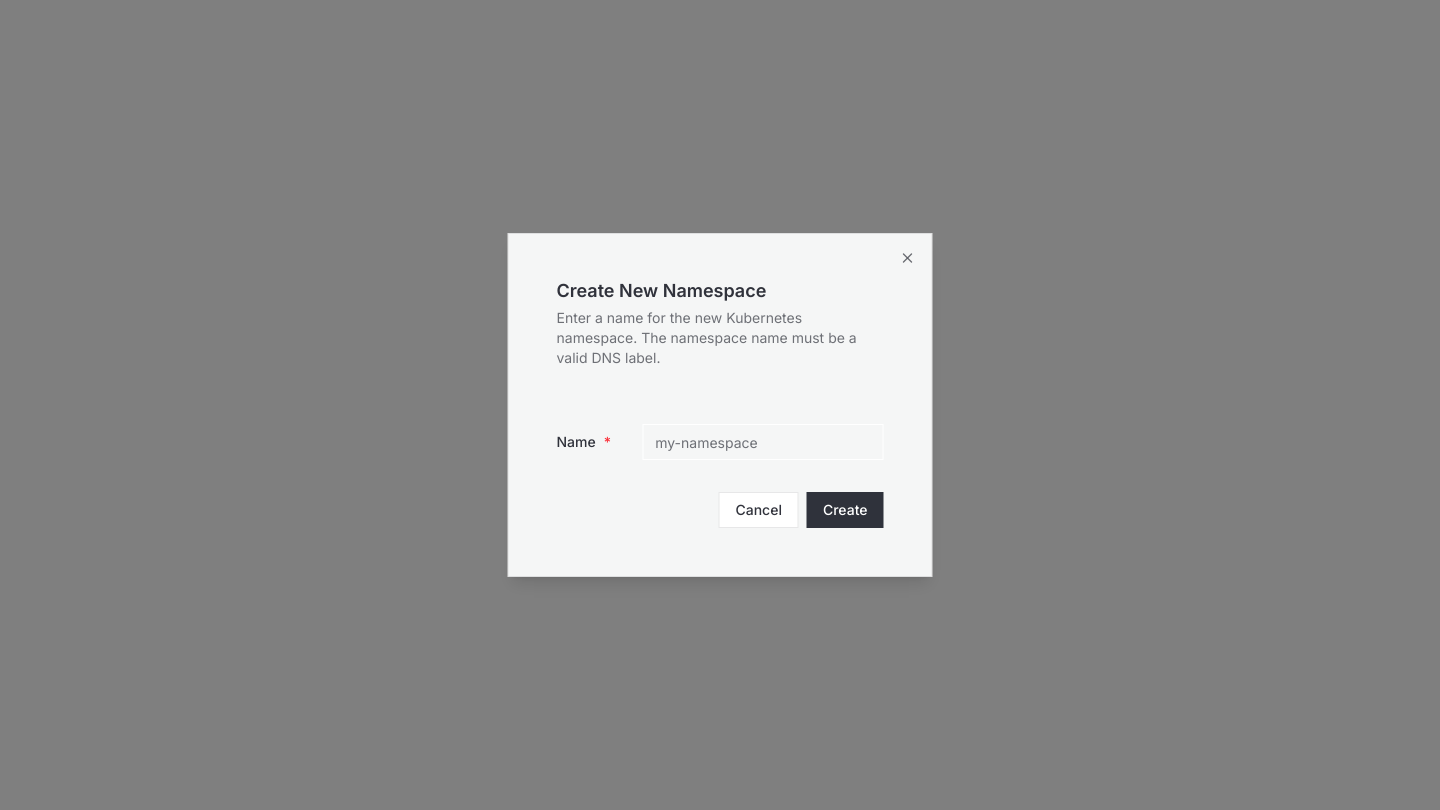
Test: NamespaceEditor › validation › should show error for name with uppercase letters
The image size is (1440, 810).
Type "invalidName" into the field with placeholder "my-namespace". click: (763, 442)
box: [642,424,884,460]
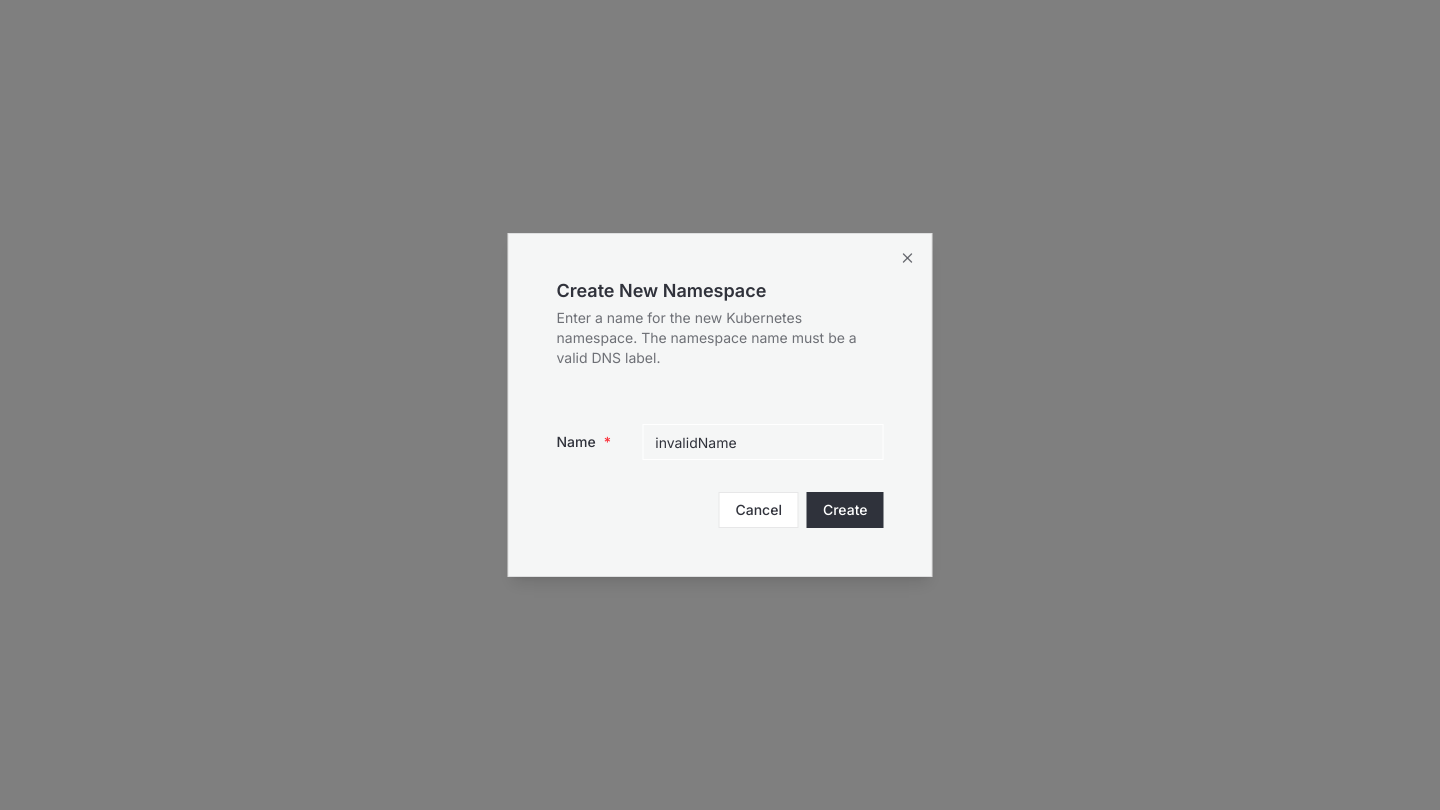
Click the button "Create". click: (845, 510)
box: [807,492,884,528]
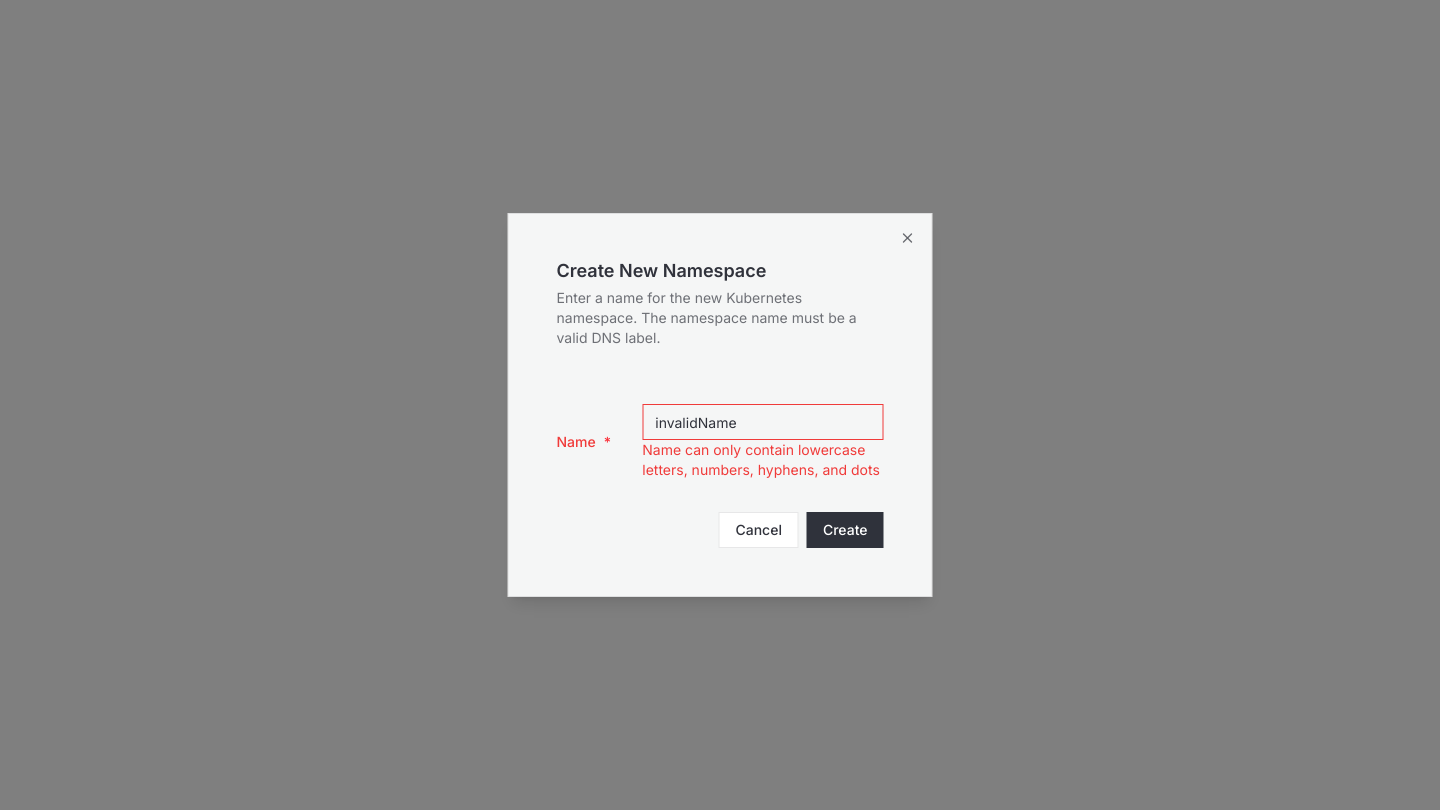
expect the text "Name can only contain lowercase letters, numbers, hyphens, and dots" is shown: met, box [642,440,884,480]
